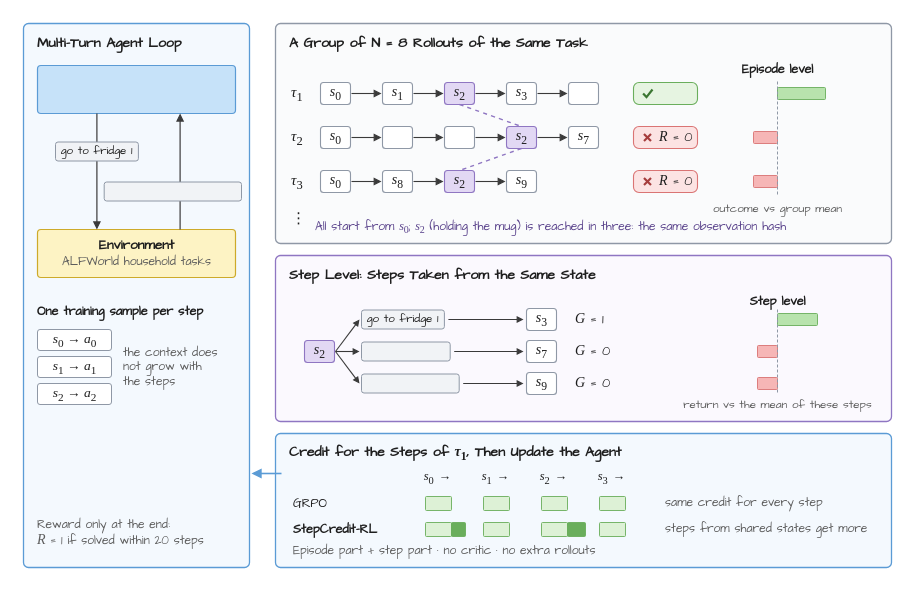
The diagram is 914 pixels wide and 590 high, and some of its shapes have lost their labels. The centre of each missing label's shape, as x and y in pixels:
go to cabinet 1: the point at 405,351
go to sinkbasin 1: the point at 409,383
LLM Agent Qwen3-4B: the point at 136,89
R = 1: the point at 665,93
s 4: the point at 583,93
s 5: the point at 397,137
s 6: the point at 459,137
“You arrive at fridge 1.”: the point at 172,191
